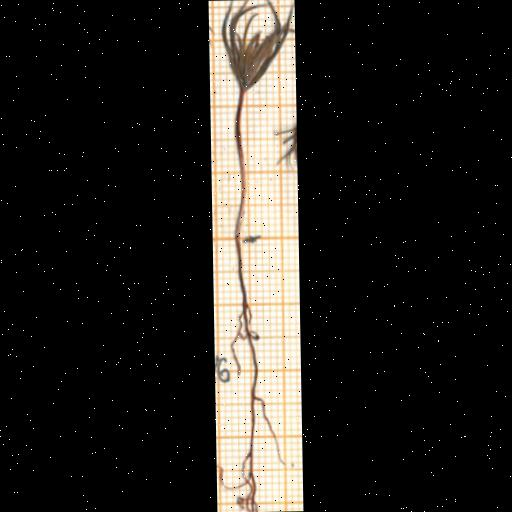flowerPinus: (221, 0, 293, 93)
rootPinus: (231, 241, 284, 512)
stemPinus: (235, 89, 246, 241)
